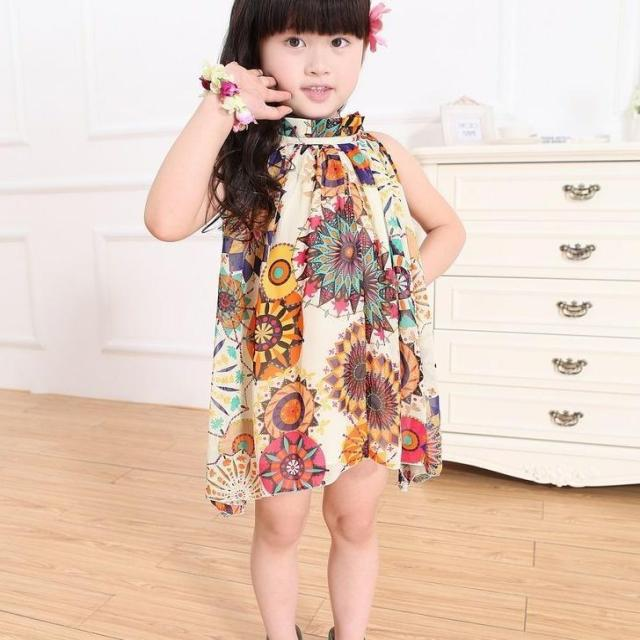vest dress: (213, 105, 443, 516)
